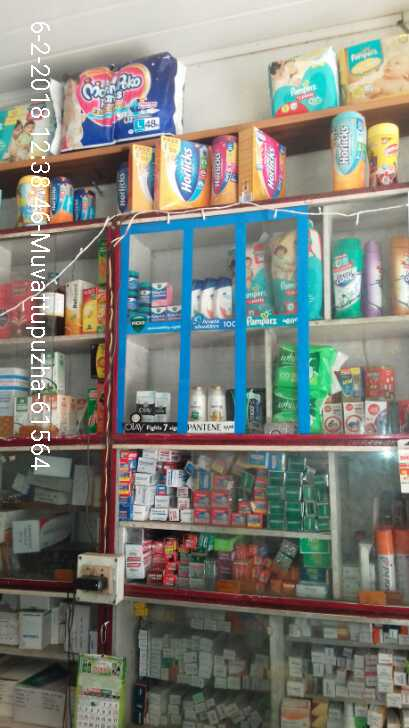vicks: (128, 269, 184, 317)
